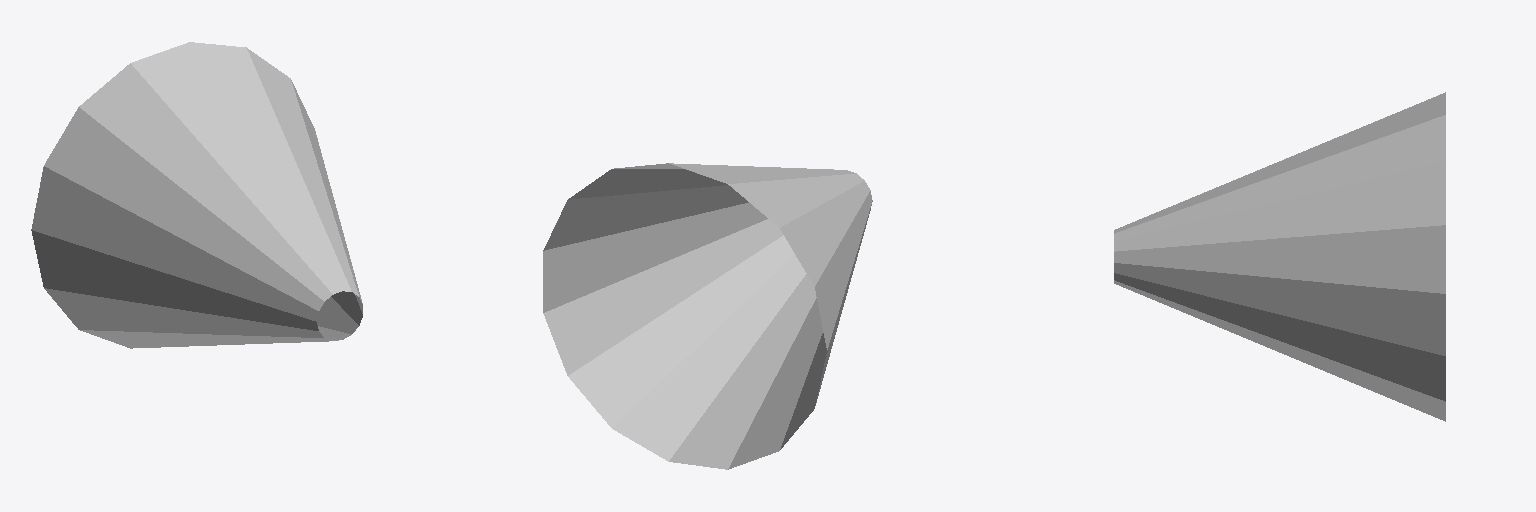
File: Flashlight.obj
The picture shows the model from 3 angles: view 1: azimuth 30°, elevation 25°; view 2: azimuth 150°, elevation 25°; view 3: azimuth 270°, elevation 25°; orthographic projection.
Visible parts, largest first — view 1: Cylinder; view 2: Cylinder; view 3: Cylinder.
Boxes of the visible parts, <box> form: Cylinder: <box>31,42,362,348</box>; Cylinder: <box>543,163,872,469</box>; Cylinder: <box>1114,92,1445,421</box>.
Size of the model in its own units: 1.98 by 1.99 by 2.